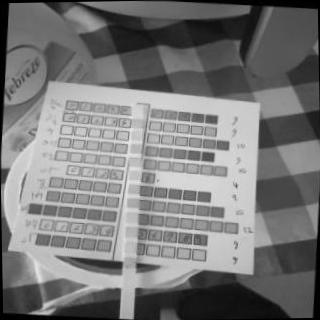mark: (124, 212, 138, 222), (126, 198, 140, 208), (123, 258, 137, 268), (126, 226, 137, 237), (128, 184, 139, 195), (130, 170, 142, 180), (131, 106, 144, 115), (129, 157, 140, 167), (131, 144, 142, 154), (125, 242, 136, 252), (132, 132, 143, 141), (133, 119, 143, 128)
